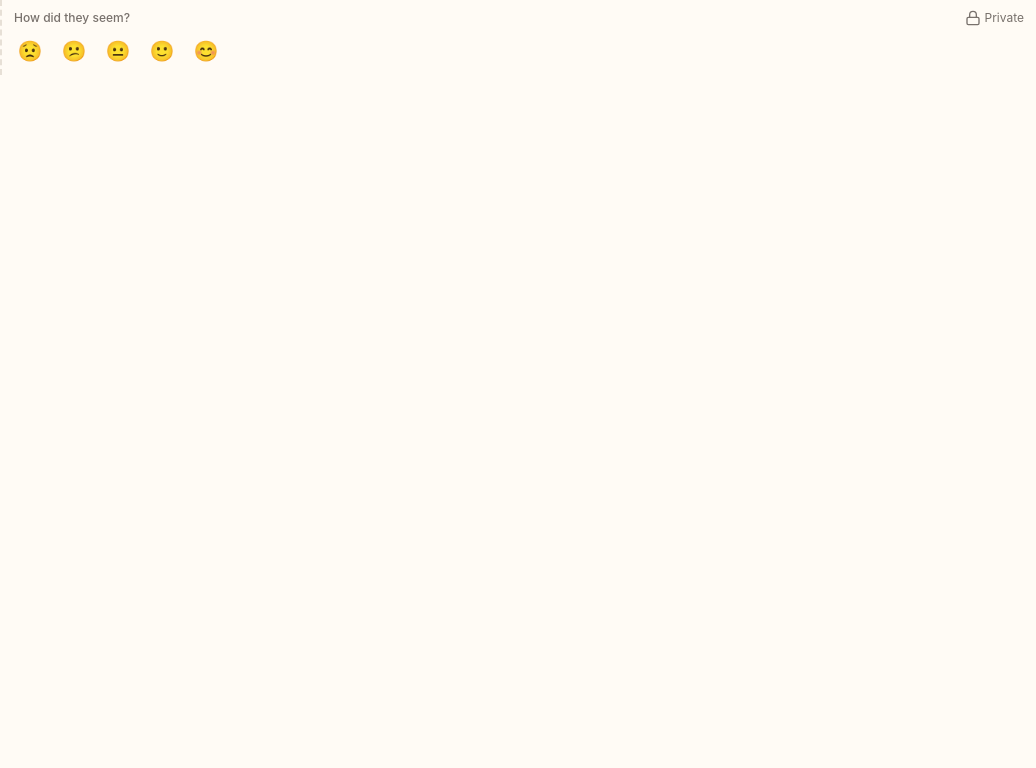
Scenario: mood saving failures › reverts the rating and says so when the write fails
The image size is (1036, 768).
Click the radio button named "Good energy" at [162, 51], box [146,35,178,67]
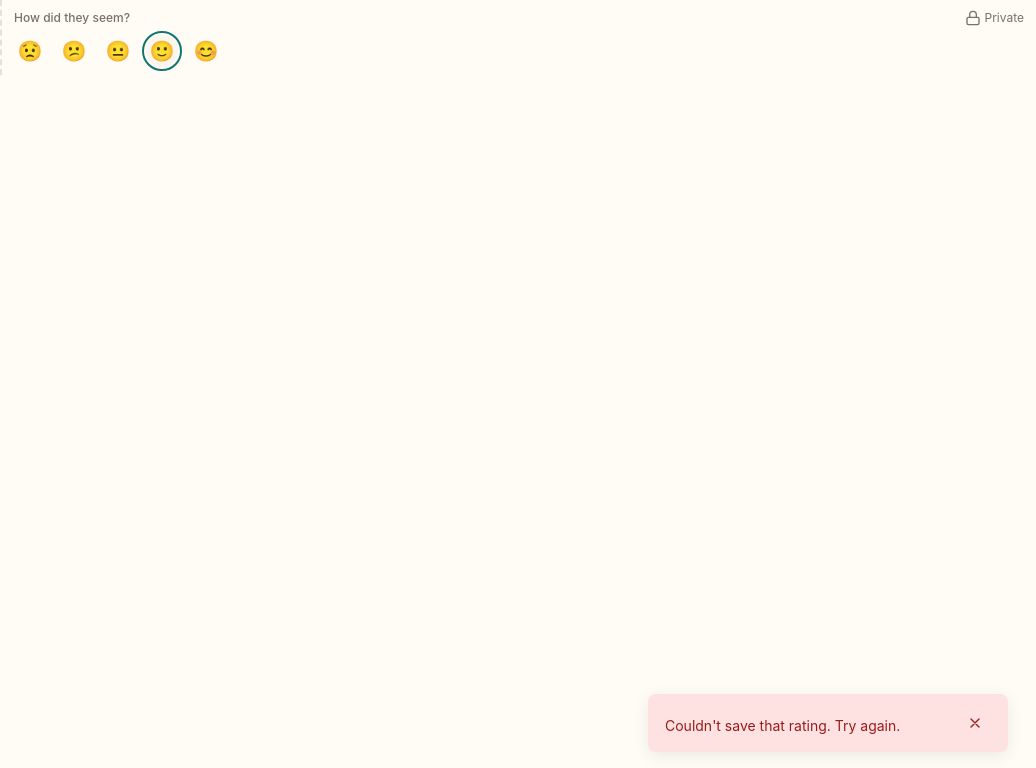
expect the text "Couldn't save that rating. Try again." is shown: met, box [665,717,900,734]
